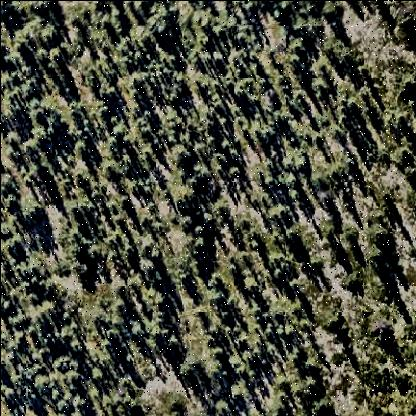tree-top: (146, 7, 178, 40), (362, 220, 393, 254), (16, 199, 46, 227), (168, 179, 197, 207), (292, 374, 320, 402), (166, 145, 193, 171), (140, 288, 168, 311), (224, 379, 249, 404), (394, 11, 416, 39), (137, 318, 161, 342), (320, 314, 346, 336), (161, 83, 184, 106), (309, 76, 333, 98), (308, 169, 330, 193), (370, 326, 392, 349), (398, 73, 416, 101), (320, 1, 344, 21), (99, 156, 119, 180), (171, 256, 191, 280), (64, 365, 84, 389), (95, 83, 119, 103), (29, 375, 54, 394), (43, 47, 68, 65), (21, 2, 55, 15), (204, 290, 226, 310), (177, 361, 197, 383), (242, 276, 262, 298), (265, 206, 288, 225), (288, 36, 309, 56), (138, 257, 159, 277), (290, 155, 312, 174), (310, 397, 332, 416), (126, 70, 145, 92), (28, 108, 48, 128), (308, 253, 326, 274), (4, 131, 25, 149), (75, 262, 94, 281), (68, 239, 86, 259), (256, 125, 274, 145), (71, 397, 89, 415), (67, 200, 85, 218), (212, 399, 231, 416), (165, 331, 181, 351), (88, 246, 105, 264), (226, 162, 245, 178), (87, 368, 105, 384), (65, 340, 83, 356), (274, 2, 292, 16), (228, 353, 242, 371), (193, 236, 207, 252), (118, 191, 130, 209), (405, 165, 416, 182)
